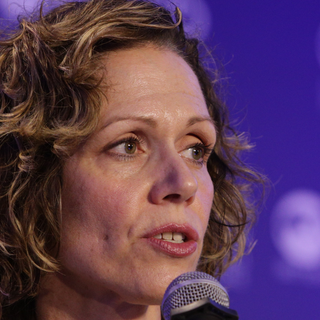eye: (101, 133, 149, 159), (175, 139, 210, 165)
